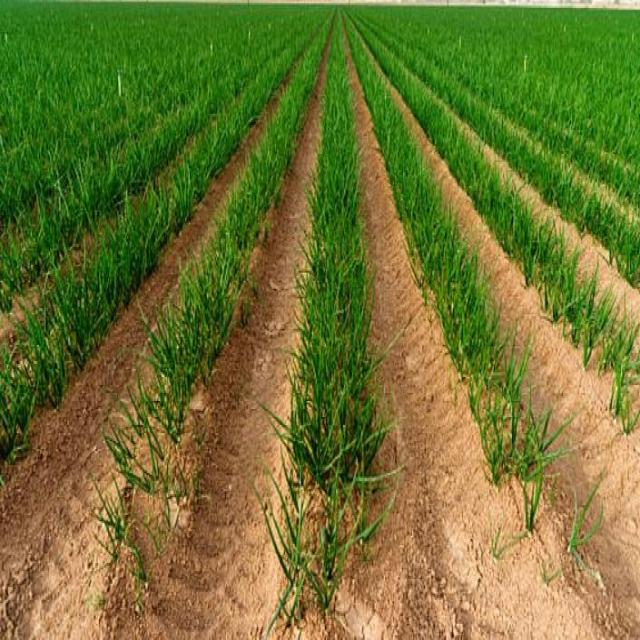row: (2, 80, 284, 518), (394, 92, 638, 537), (168, 80, 326, 571), (352, 82, 513, 557)
